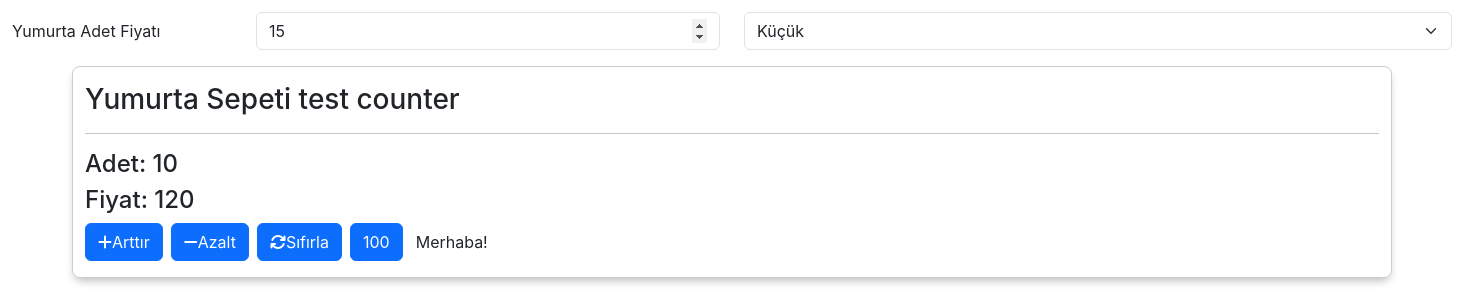
it: Counter increase descrease buttons test
Check: the text with test id "counter-value" reads "10", box [153, 149, 178, 178]
Click the button with test id "yumurta-arttir-btn" at (124, 242), box [85, 223, 163, 261]
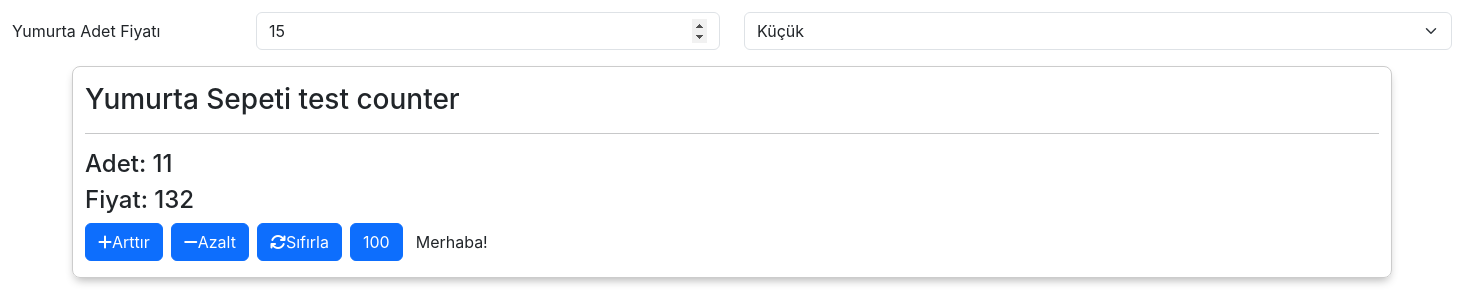
Check: the text with test id "counter-value" reads "11", box [153, 149, 172, 178]
Click the button with test id "azalt-btn" at (210, 242), box [171, 223, 249, 261]
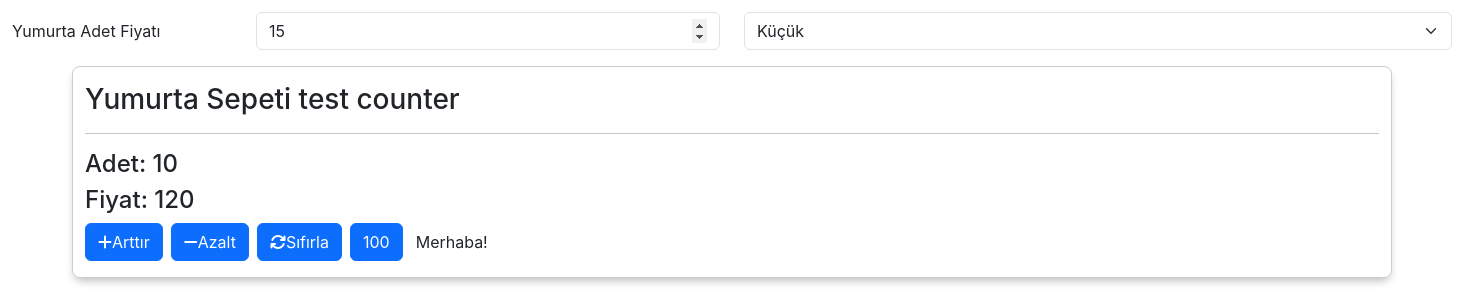
Click the button with test id "azalt-btn" at (210, 242), box [171, 223, 249, 261]
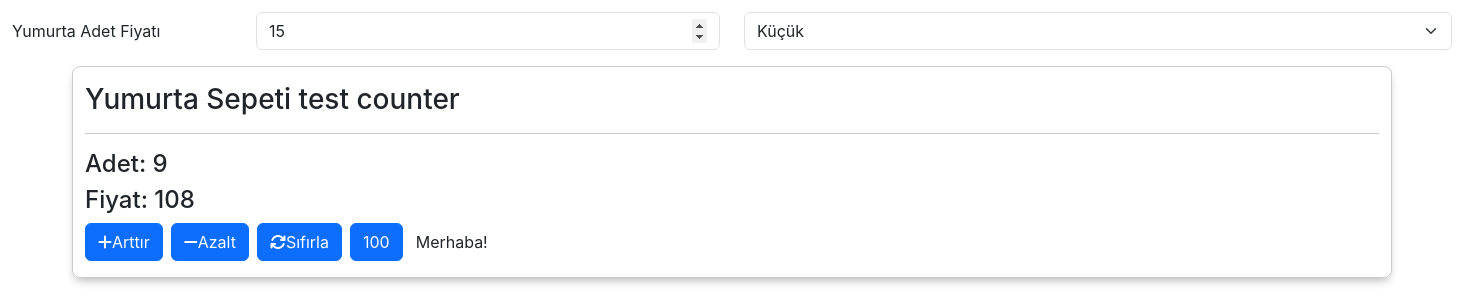
Check: the text with test id "counter-value" reads "9", box [153, 149, 168, 178]
